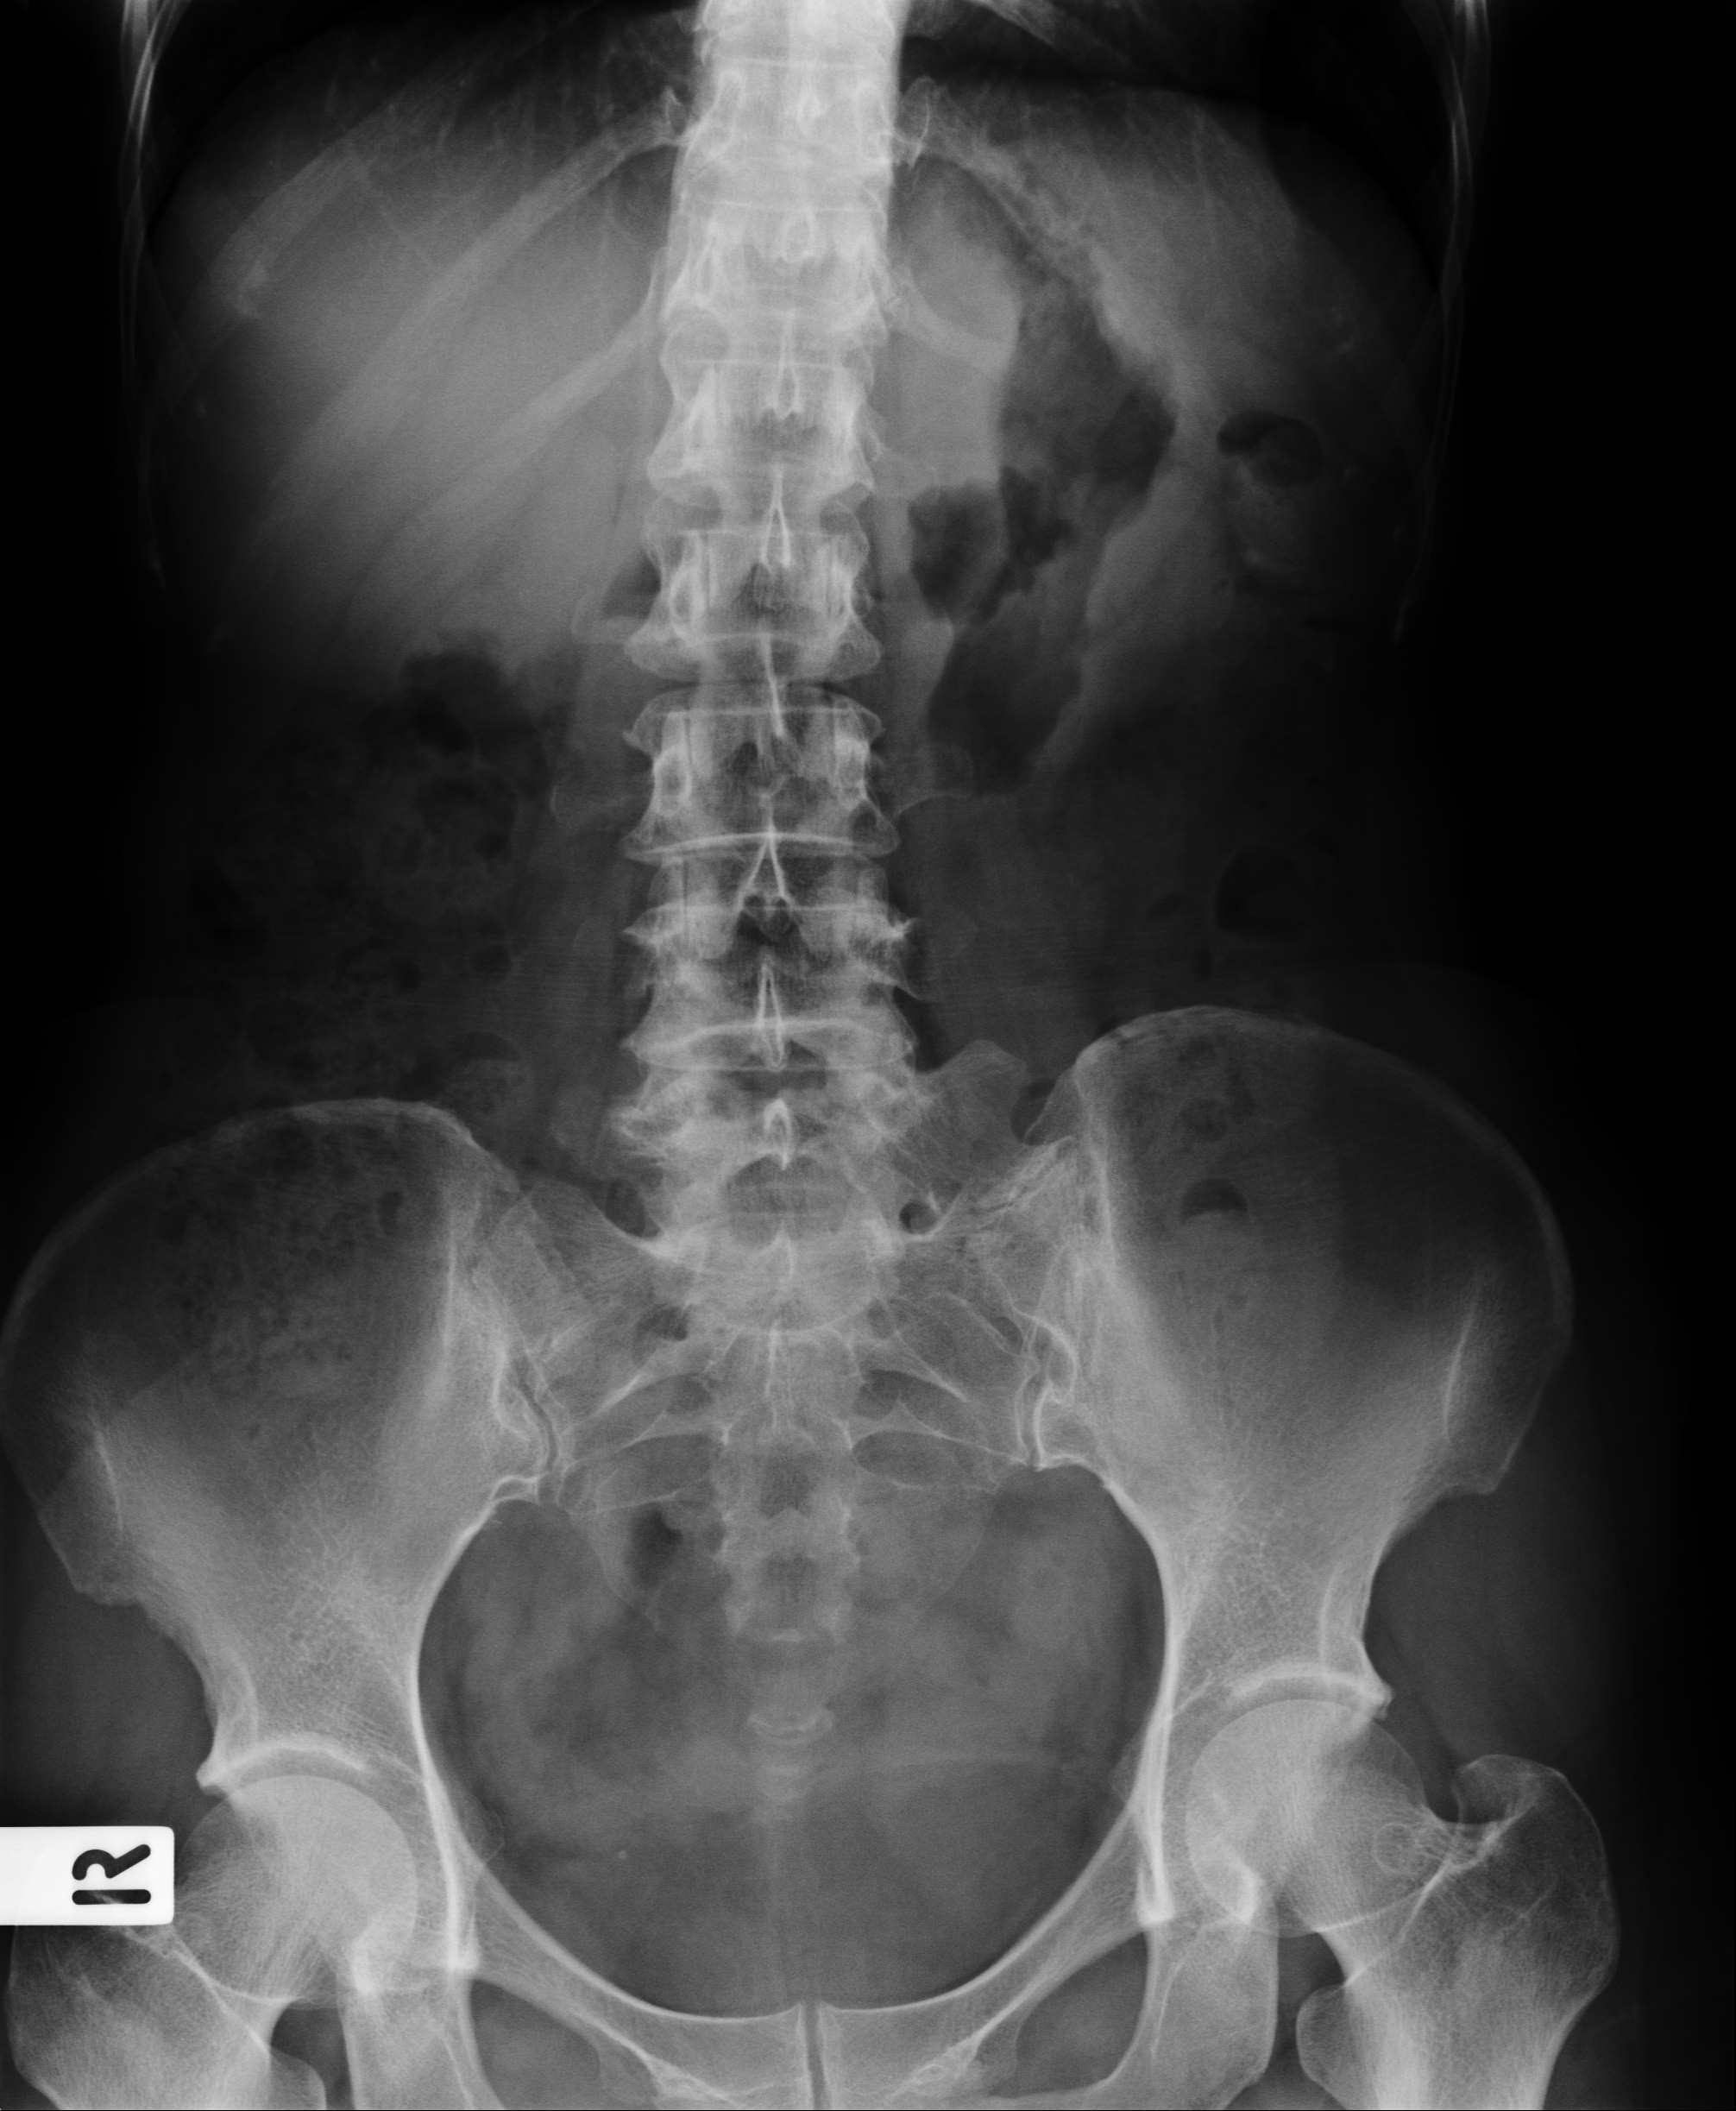lumbar scoliosis: (610, 7, 921, 1301)
